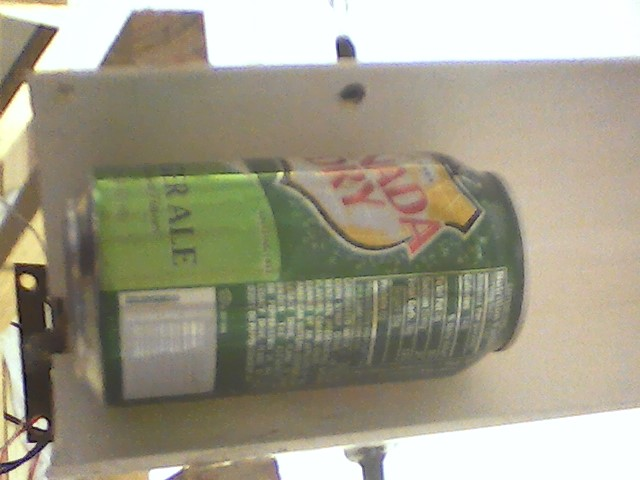lata: (56, 145, 543, 412)
